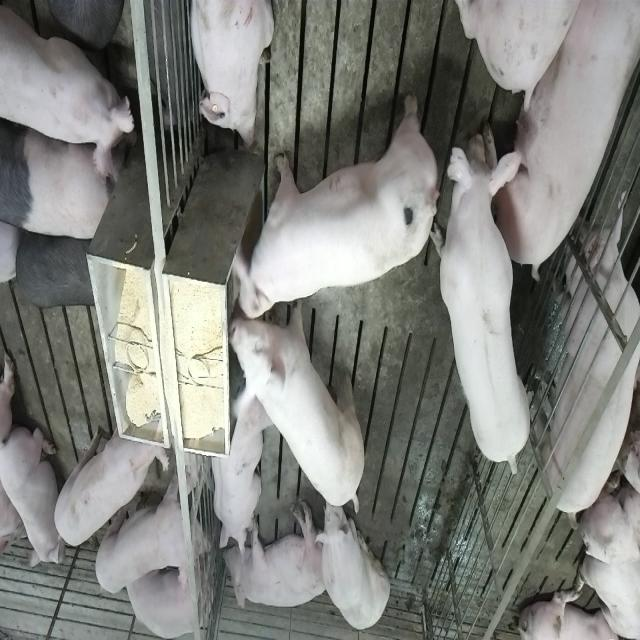Feeding: (232, 91, 439, 309), (230, 293, 368, 509)
Lateral_lying: (480, 4, 636, 279), (222, 501, 330, 614)
Sitting: (314, 490, 390, 632)
Standing: (436, 125, 534, 482), (536, 209, 640, 532), (2, 0, 140, 181), (51, 403, 168, 548), (2, 109, 120, 240)
Sternal_lying: (187, 0, 275, 150), (208, 376, 268, 558), (2, 418, 60, 568), (124, 552, 208, 638)
